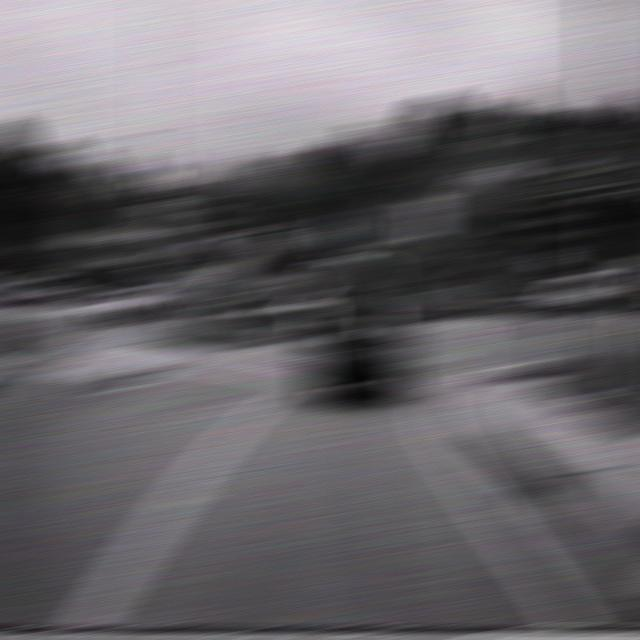noRightTurn: (141, 202, 181, 236)
